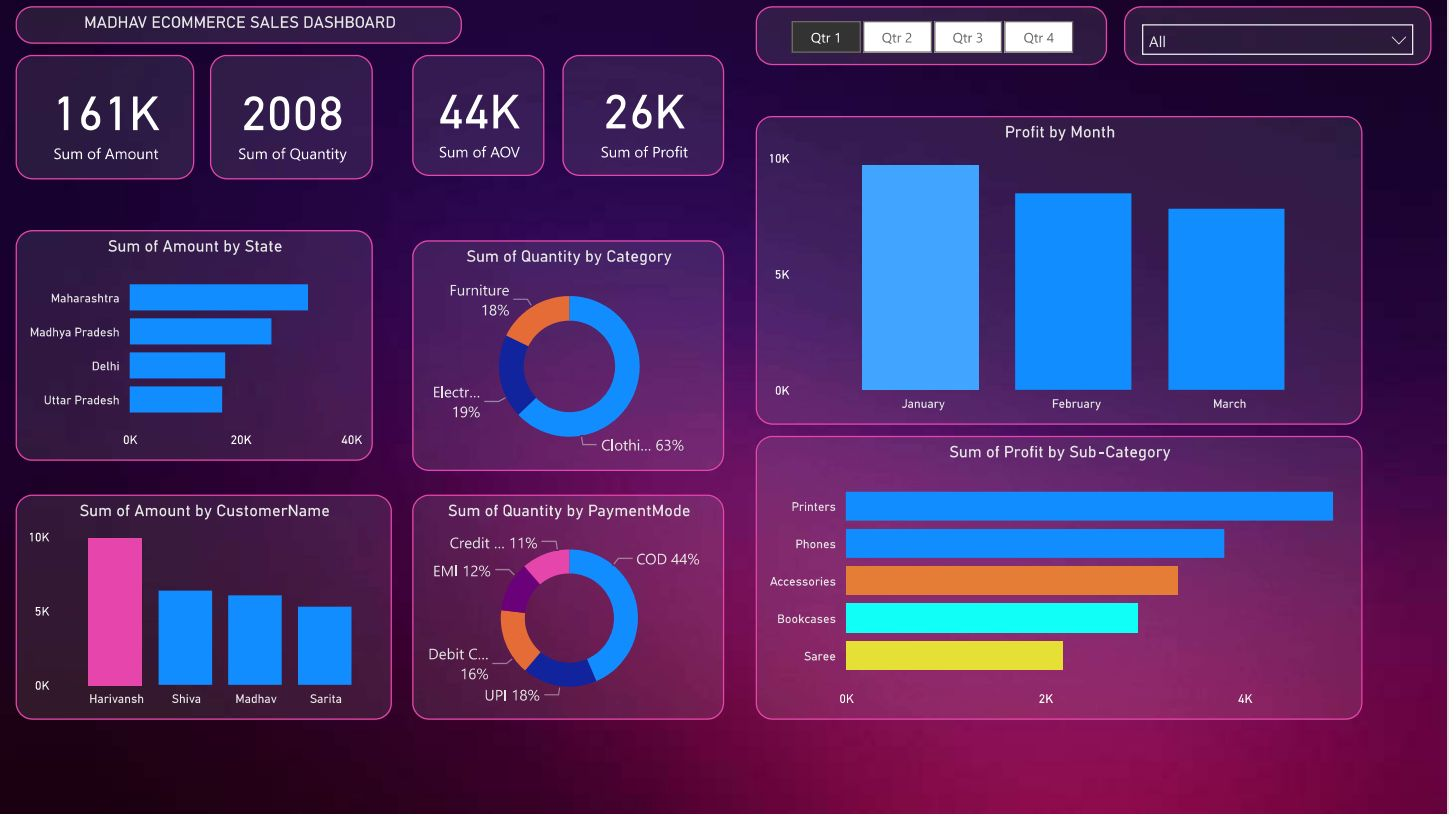

This screenshot's page, from the dashboard's own definition file:
{"tool":"powerbi","page":{"name":"Page 1","canvas":[1280,720],"ordinal":0},"visuals":[{"type":"columnChart","title":"Profit by Month","fields":{"Category":["Orders.Order Date.Variation.Date Hierarchy.Month"],"Y":["Details.Profit"]},"box":[668.1,102.5,536.7,273.8],"z":0},{"type":"textbox","title":"MADHAV ECOMMERCE SALES DASHBOARD","box":[13.3,6,394.4,32.6],"z":1000},{"type":"barChart","fields":{"Category":["Details.Sub-Category"],"Y":["Details.Profit"]},"box":[668.1,385.9,536.7,250.9],"z":2000},{"type":"donutChart","fields":{"Category":["Details.Category"],"Y":["Details.Quantity"]},"box":[364.2,213.5,276.2,203.8],"z":3000},{"type":"donutChart","fields":{"Y":["Details.Quantity"],"Category":["Details.PaymentMode"]},"box":[364.2,437.8,276.2,199],"z":4000},{"type":"card","fields":{"Values":["Details.Amount"]},"box":[13.3,49.4,158,109.7],"z":5000},{"type":"card","fields":{"Values":["Details.Quantity"]},"box":[184.5,49.4,144.7,109.7],"z":6000},{"type":"card","fields":{"Values":["Details.Profit"]},"box":[496.9,49.4,143.5,106.1],"z":7000},{"type":"card","fields":{"Values":["Details.Aov"]},"box":[364.2,49.4,117,106.1],"z":8000},{"type":"barChart","fields":{"Category":["Orders.State"],"Y":["Details.Amount"]},"box":[13.3,203.8,316,203.8],"z":9000},{"type":"columnChart","fields":{"Category":["Orders.CustomerName"],"Y":["Details.Amount"]},"box":[13.3,437.8,332.9,199],"z":10000},{"type":"slicer","fields":{"Values":["Orders.Order Date.Variation.Date Hierarchy.Quarter"]},"box":[668.1,6,311.2,51.9],"z":11000},{"type":"slicer","fields":{"Values":["Orders.State"]},"box":[993.8,6,272.6,51.9],"z":12000}]}

Visuals, with their boxes in screenshot pixels (x1, y1, x2, y2), scaled from the page's 1280x720 canvas onto the 1456x821 screenshot:
"Profit by Month" columnChart: BBox(760, 117, 1370, 429)
"MADHAV ECOMMERCE SALES DASHBOARD" textbox: BBox(15, 7, 464, 44)
barChart - Details.Sub-Category x Details.Profit: BBox(760, 440, 1370, 726)
donutChart - Details.Category x Details.Quantity: BBox(414, 243, 728, 476)
donutChart - Details.Quantity x Details.PaymentMode: BBox(414, 499, 728, 726)
card - Details.Amount: BBox(15, 56, 195, 181)
card - Details.Quantity: BBox(210, 56, 374, 181)
card - Details.Profit: BBox(565, 56, 728, 177)
card - Details.Aov: BBox(414, 56, 547, 177)
barChart - Orders.State x Details.Amount: BBox(15, 232, 375, 465)
columnChart - Orders.CustomerName x Details.Amount: BBox(15, 499, 394, 726)
slicer - Orders.Order Date.Variation.Date Hierarchy.Quarter: BBox(760, 7, 1114, 66)
slicer - Orders.State: BBox(1130, 7, 1441, 66)
